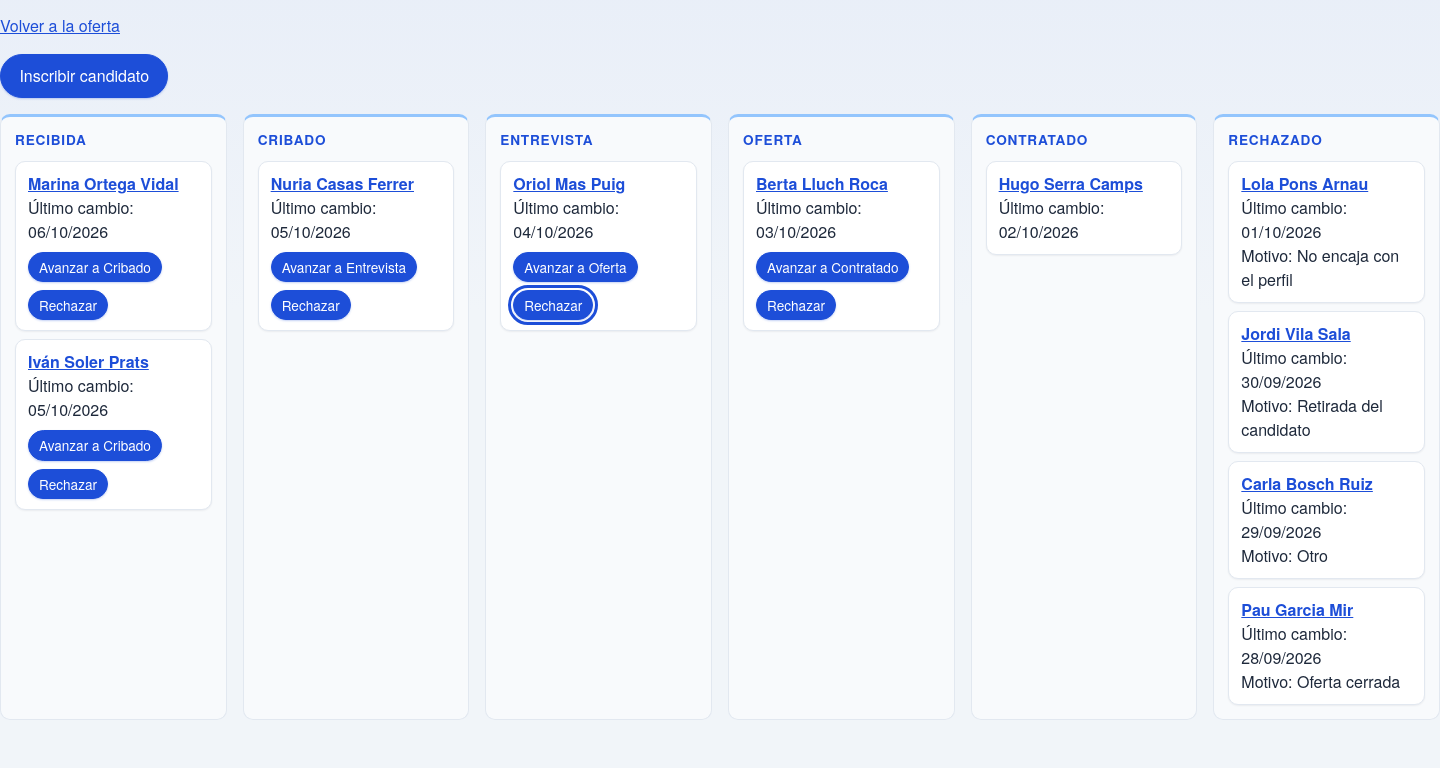
Test case: PipelineScreen: rechazar › EC-39 INVALID_TRANSITION → diálogo cerrado, alerta con foco y recarga
Click the button named "Rechazar: Oriol Mas Puig" at (553, 305), box [513, 290, 593, 320]
(page scrolled)
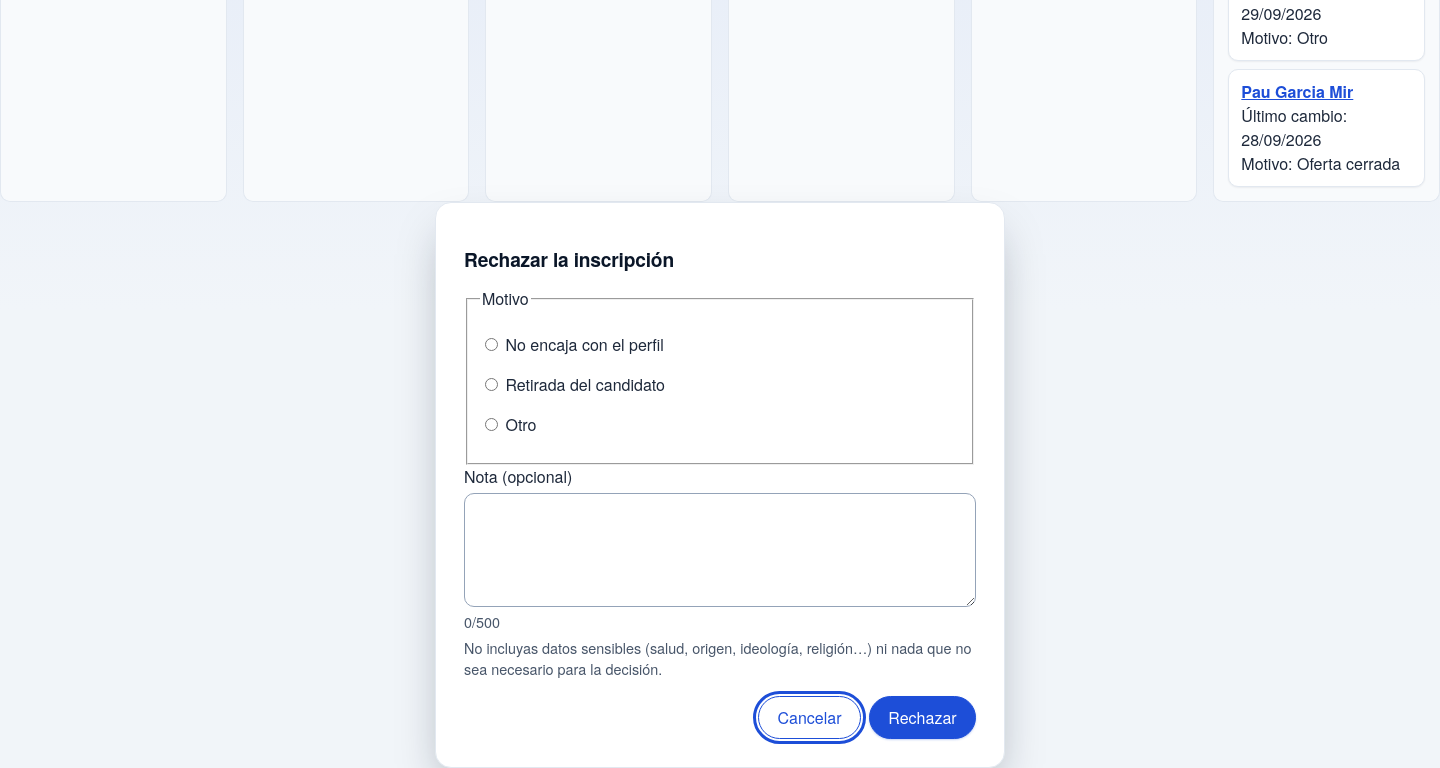
Click the radio button labelled "No encaja con el perfil" at (492, 344), box [485, 338, 498, 351]
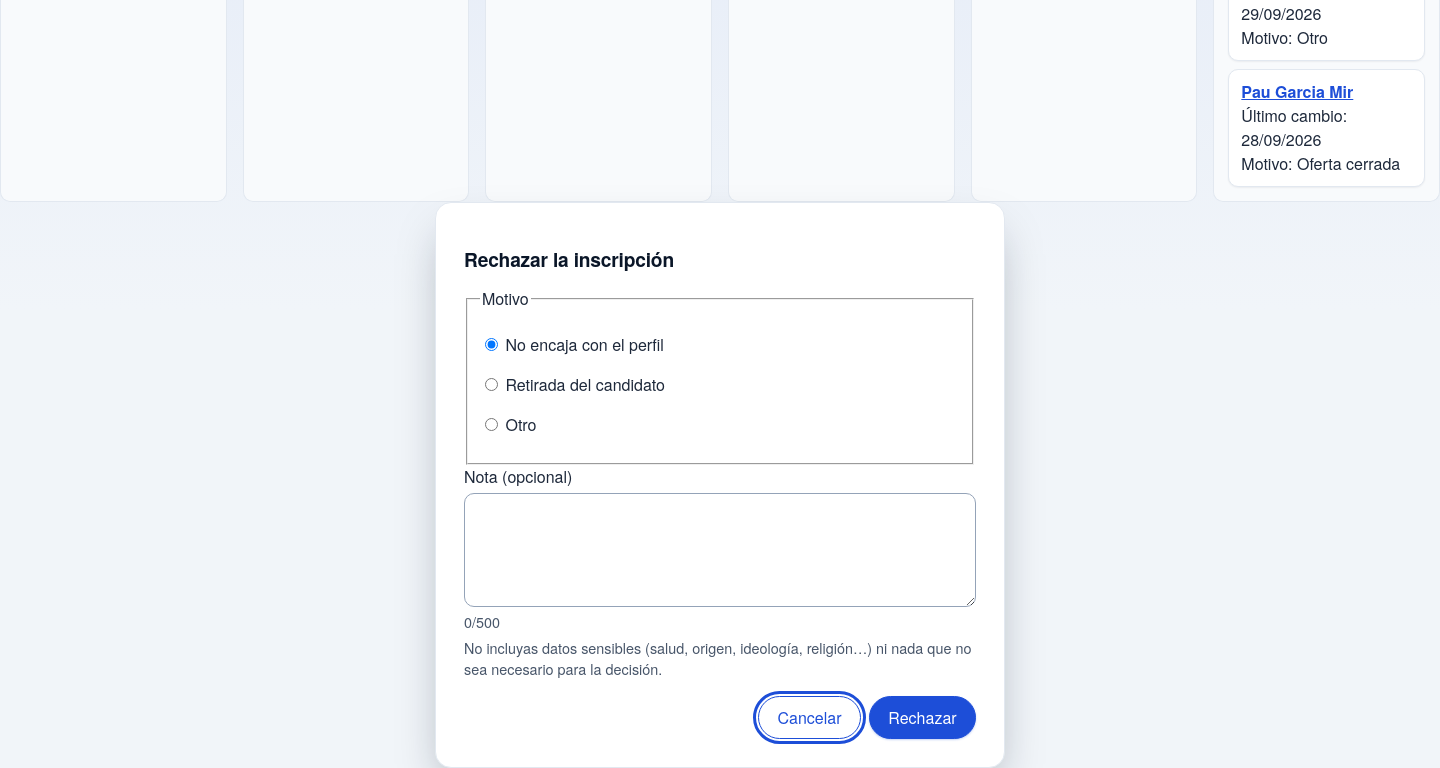
Type "Nota que se descarta." into the text box labelled "Nota (opcional)" at (720, 550), box [464, 493, 976, 607]
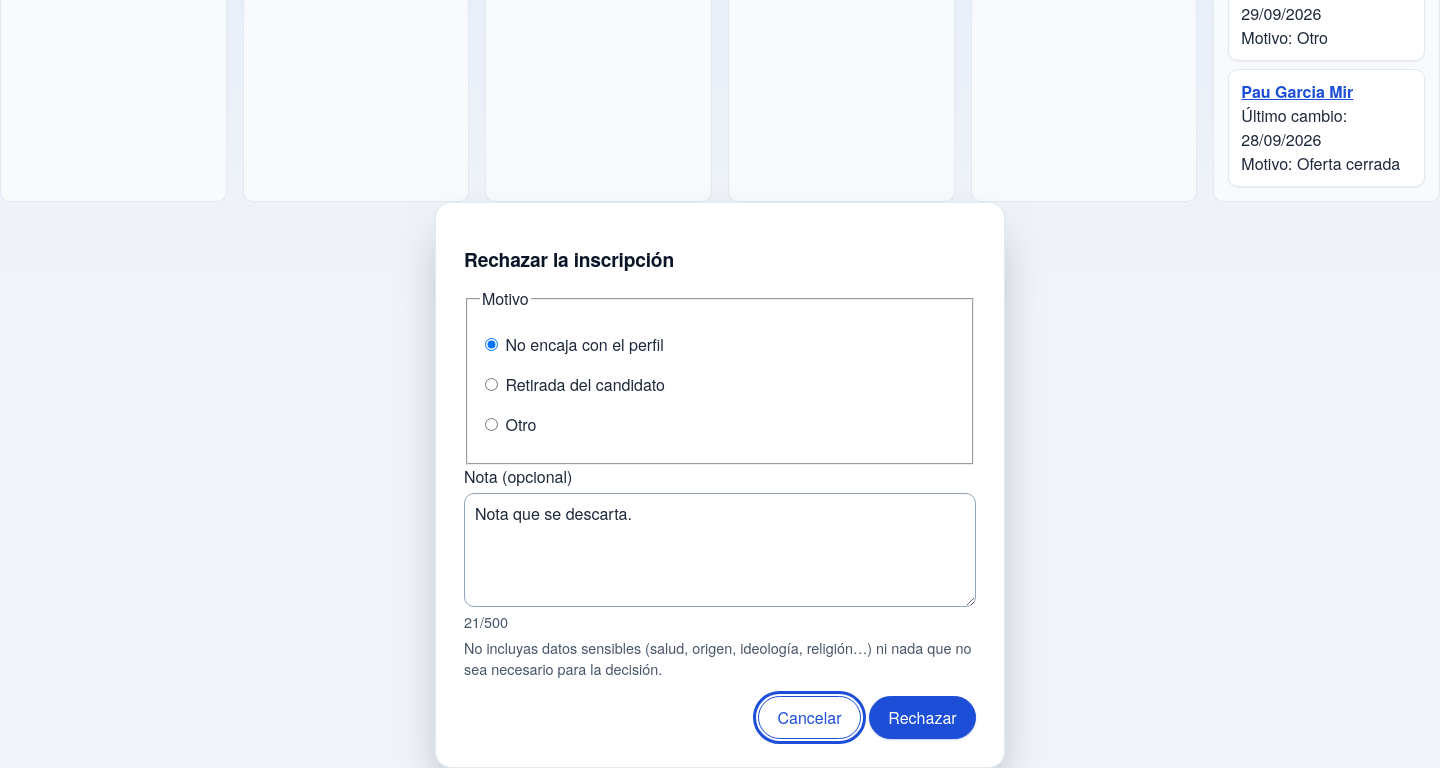
Click the 2nd button "Rechazar" at (922, 718), box [869, 696, 976, 740]
(page scrolled)
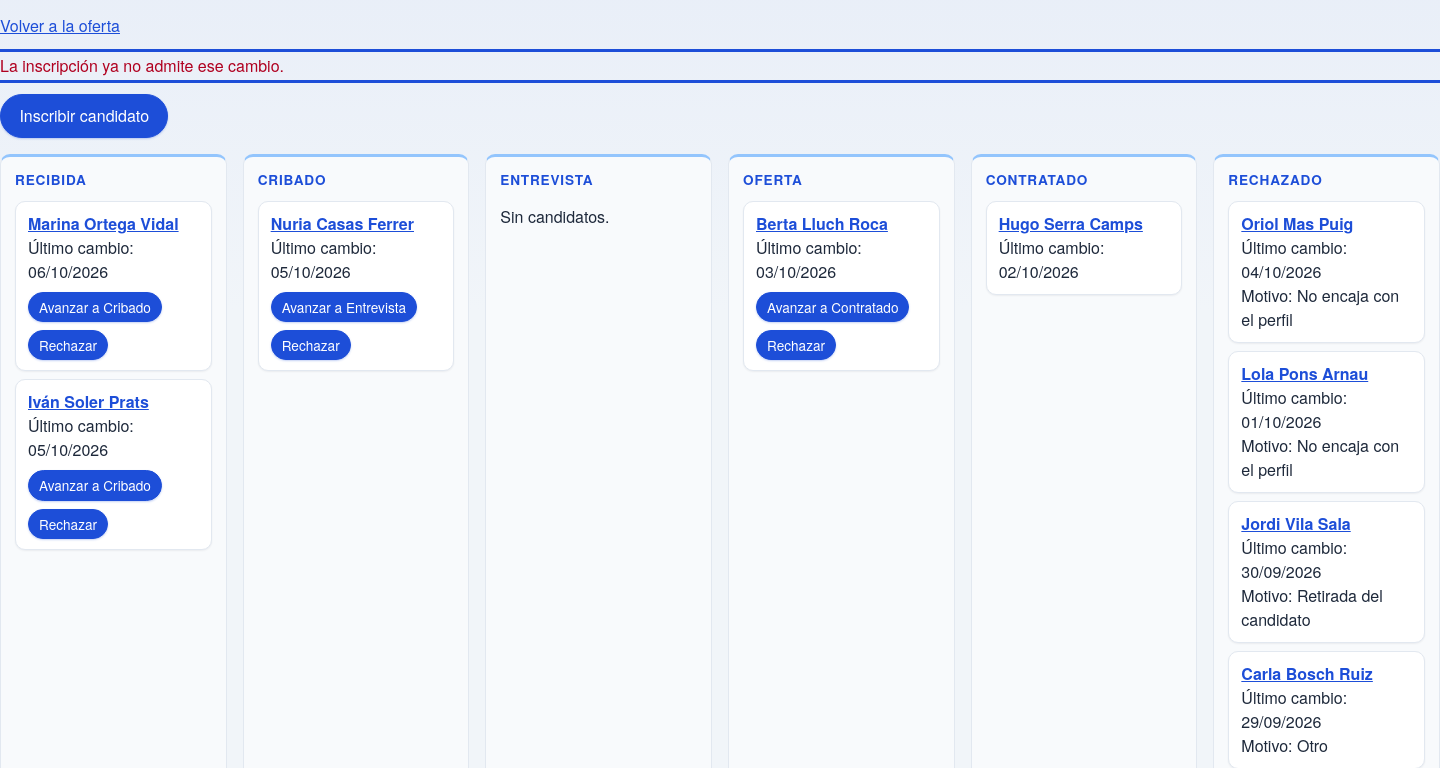
Check: the link "Oriol Mas Puig" is shown, box [1241, 212, 1353, 235]
Check: the message reads "La inscripción ya no admite ese cambio.", box [0, 54, 284, 77]
